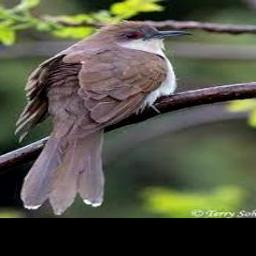Cuckoo: (13, 20, 191, 213)
